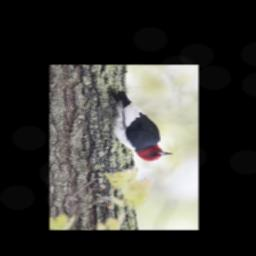Woodpecker: (111, 89, 173, 161)
